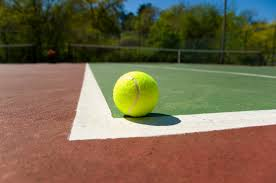tennis_ball: (113, 70, 160, 118)
